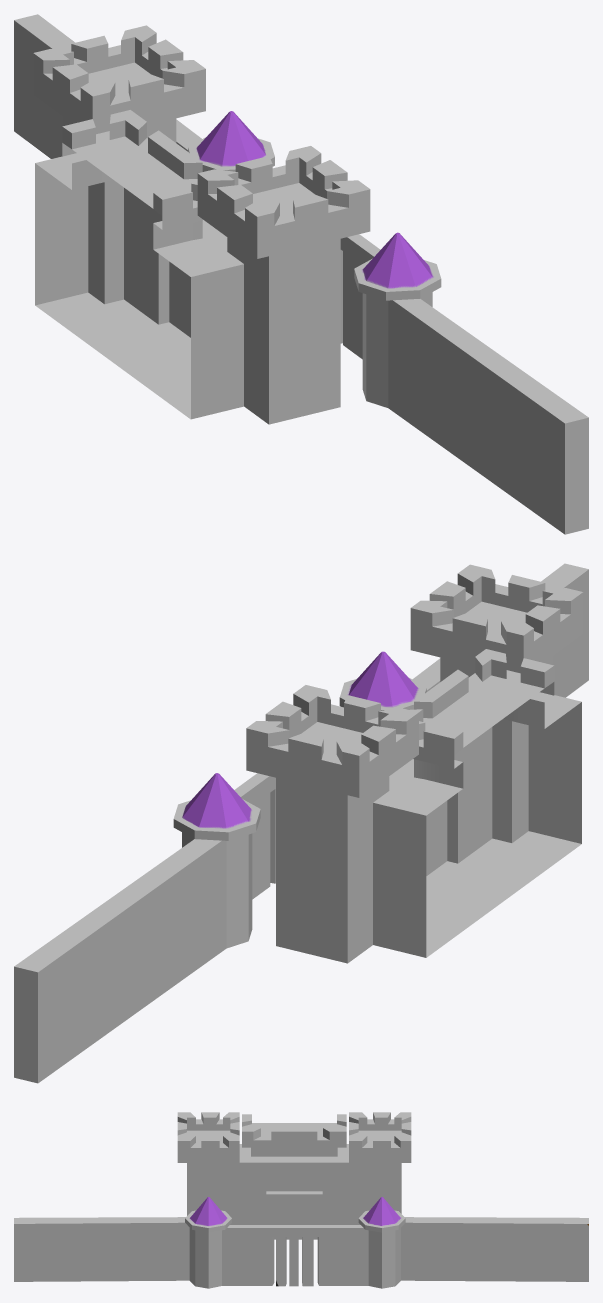
File: Castle_Wall.fbx
3 views of the same model, one above another, from view 1: azimuth 30°, elevation 25°; view 2: azimuth 150°, elevation 25°; view 3: azimuth 270°, elevation 25° (orthographic). The views are drawn at different scales.
Visible parts, largest first — view 1: Castle2; view 2: Castle2; view 3: Castle2.
Part boxes in pixels (box(x1,y1,x2,y2)): Castle2: box(14, 14, 588, 534); Castle2: box(14, 563, 588, 1083); Castle2: box(14, 1112, 588, 1288).
Bounding box in the file's own units: 259 × 246 × 1019.
